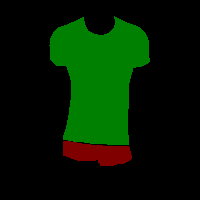abbigliamento: (49, 15, 150, 145)
mutande: (63, 140, 132, 166)
